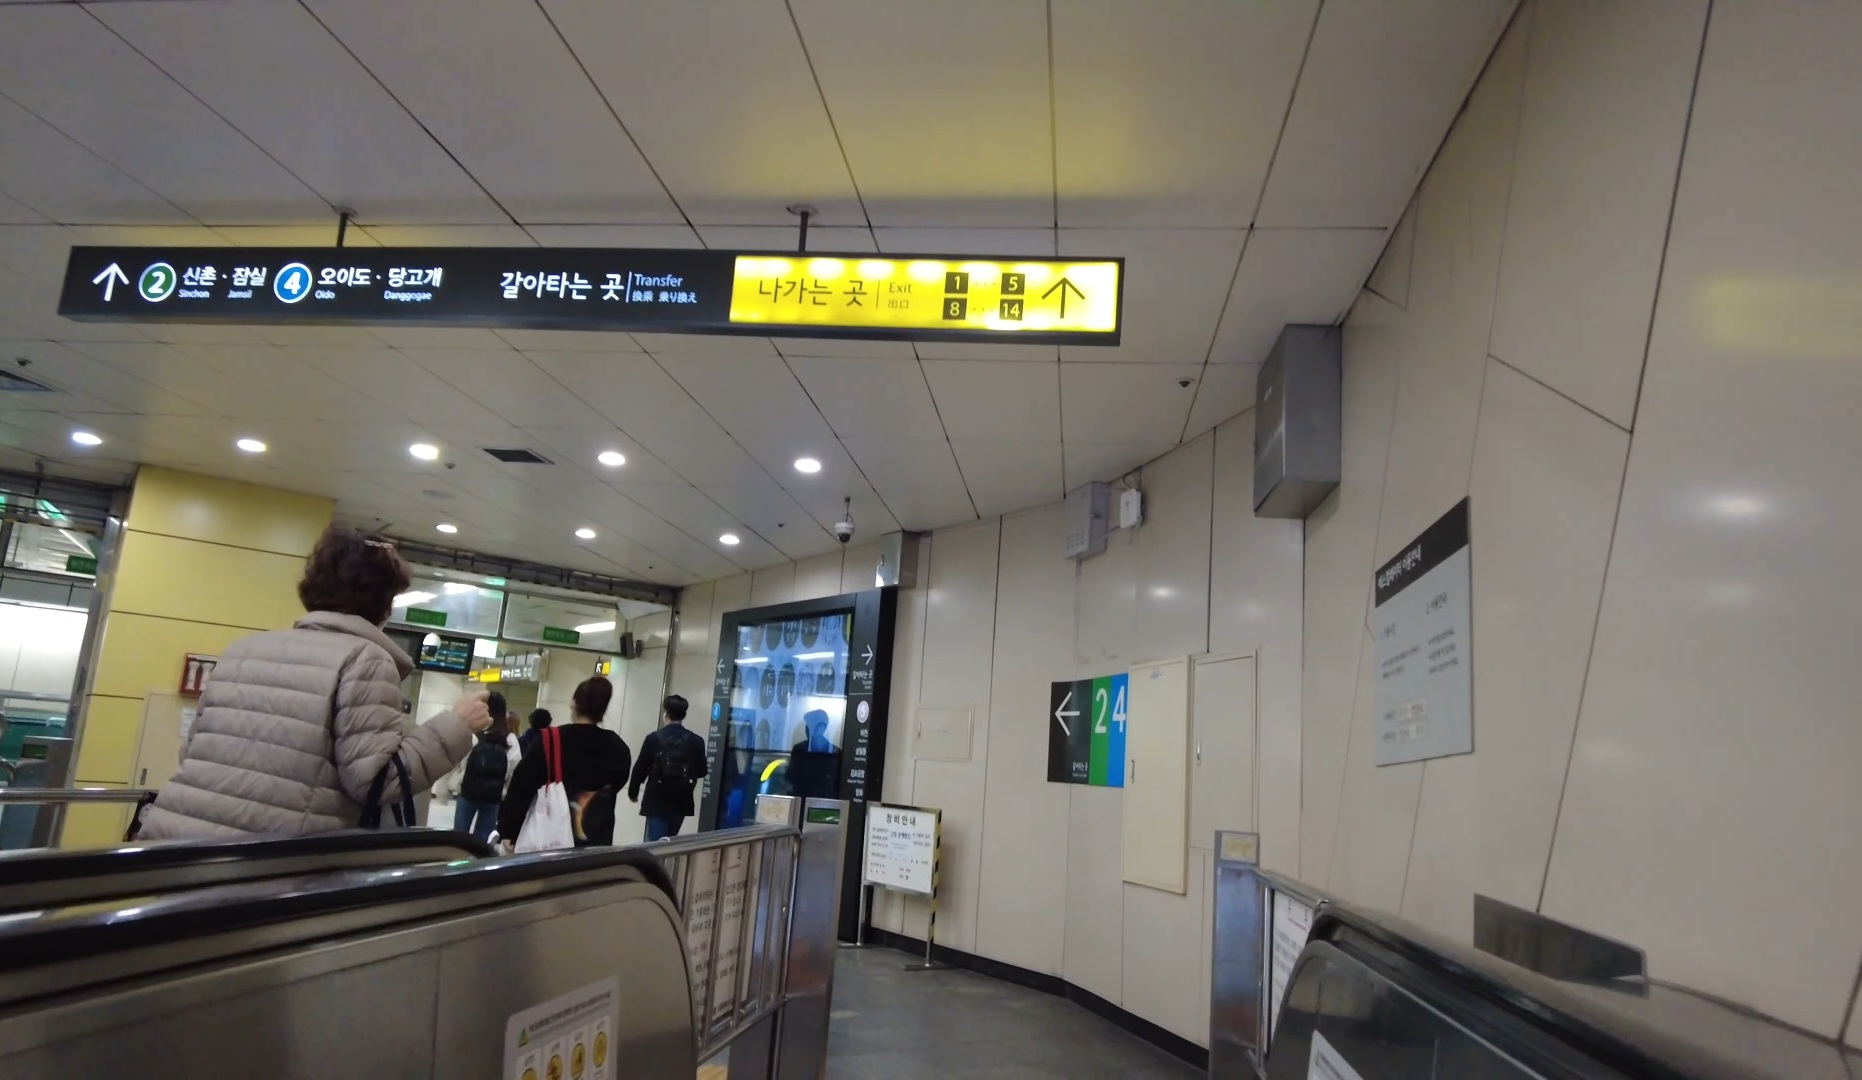signBoard: (49, 240, 1128, 352)
